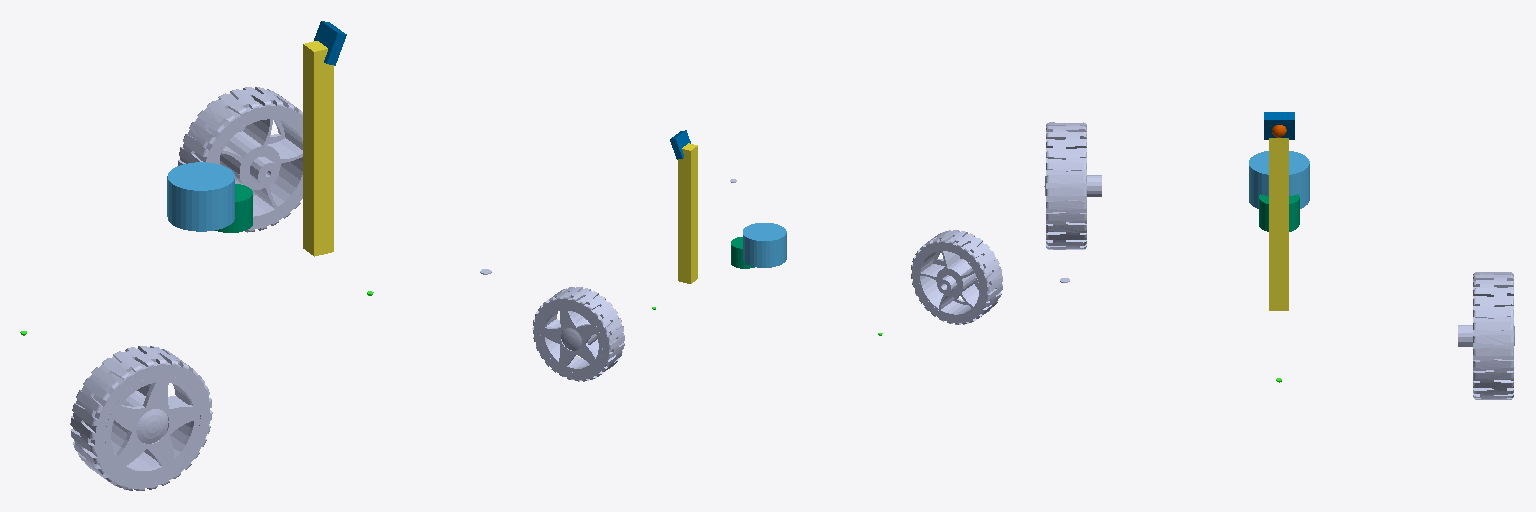
URDF robot description (neor_mini):
<?xml version="1.0" encoding="utf-8"?>
<!-- This URDF was automatically created by SolidWorks to URDF Exporter! Originally created by [author] ([email redacted]) 
     Commit Version: 1.5.1-0-g916b5db  Build Version: 1.5.7152.31018
     For more information, please see http://wiki.ros.org/sw_urdf_exporter -->
<robot name="neor_mini">

  <!-- Add Gazebo plugins -->
    <!-- Load ros_control plugin using the steer_bot_hardware_gazebo
    implementation of the hardware_interface::RobotHW -->

  <gazebo>
    <plugin name="gazebo_ros_control" filename="libgazebo_ros_control.so">
      <robotSimType>steer_bot_hardware_gazebo/SteerBotHardwareGazebo</robotSimType>
      <legacyModeNS>false</legacyModeNS>
    </plugin>
  </gazebo>

    <link name="base_link">
    <!-- avoid root link inertia warnings, annotation -->
    <inertial>
      <origin
        xyz="0.030649671440691 -1.79069899872708E-05 0.0558717976709459"
        rpy="0 0 0" />
      <mass
        value="1.72617713171385" />
      <inertia
        ixx="0.0107311274569357"
        ixy="-3.24164649120244E-08"
        ixz="0.00169188715816868"
        iyy="0.0198871551919603"
        iyz="2.40252669081509E-07"
        izz="0.0269841937242323" />
    </inertial>

    <visual>
      <origin xyz="0 0 0" rpy="0 0 0" />
      <geometry>
        <mesh filename="package://neor_mini/meshes/base_link.STL" />
      </geometry>
      <material name="">
      <color rgba="0.250980392156863 0.250980392156863 0.250980392156863 1" /> 
      </material> 
    </visual>
    <collision>
      <origin
        xyz="0 0 0"
        rpy="0 0 0" />
      <geometry>
        <mesh
          filename="package://neor_mini/meshes/base_link.STL" />
      </geometry>
    </collision>
  </link>
  <link
    name="rear_wheel_link">
    <inertial>
      <origin
        xyz="-8.88178419700125E-16 -2.05391259555654E-14 -0.00112500000001892"
        rpy="0 0 0" />
      <mass
        value="5.65486677646169E-05" />
      <inertia
        ixx="1.32005796313028E-10"
        ixy="-1.938704560671E-27"
        ixz="2.13770572261755E-26"
        iyy="1.32005796313028E-10"
        iyz="-7.60216295195271E-25"
        izz="2.03575203952622E-10" />
    </inertial>
    <visual>
      <origin
        xyz="0 0 0"
        rpy="0 0 0" />
      <geometry>
        <mesh
          filename="package://neor_mini/meshes/rear_wheel_link.STL" />
      </geometry>
      <material
        name="">
        <color
          rgba="0.274509803921569 1 0.247058823529412 1" />
      </material>
    </visual>
    <collision>
      <origin
        xyz="0 0 0"
        rpy="0 0 0" />
      <geometry>
        <mesh
          filename="package://neor_mini/meshes/rear_wheel_link.STL" />
      </geometry>
    </collision>
  </link>
  <joint
    name="rear_wheel_joint"
    type="continuous">
    <origin
      xyz="-0.181499999999597 0 0.0399999999987674"
      rpy="0 0 0" />
    <parent
      link="base_link" />
    <child
      link="rear_wheel_link" />
    <axis
      xyz="0 1 0" />
  </joint>
  <link
    name="left_rear_link">
    <inertial>
      <origin
        xyz="7.85229659072684E-11 -0.0196762547002777 4.85059770127805E-11"
        rpy="0 0 0" />
      <mass
        value="0.29556182905038" />
      <inertia
        ixx="0.000374087423652291"
        ixy="2.19336154342606E-13"
        ixz="-5.50404301757561E-12"
        iyy="0.000661017199375587"
        iyz="-5.10049385981967E-14"
        izz="0.000374087441459994" />
    </inertial>
    <visual>
      <origin
        xyz="0 0 0"
        rpy="0 0 0" />
      <geometry>
        <mesh
          filename="package://neor_mini/meshes/left_rear_link.STL" />
      </geometry>
      <material
        name="">
        <color
          rgba="0.792156862745098 0.819607843137255 0.933333333333333 1" />
      </material>
    </visual>
    <collision>
      <origin
        xyz="0 0 0"
        rpy="0 0 0" />
      <geometry>
        <mesh
          filename="package://neor_mini/meshes/left_rear_link.STL" />
      </geometry>
    </collision>
  </link>
  <joint
    name="left_rear_joint"
    type="continuous">
    <origin
      xyz="-0.181499999999595 0.228542434993694 0.0399999999991634"
      rpy="0 0 0" />
    <parent
      link="base_link" />
    <child
      link="left_rear_link" />
    <axis
      xyz="0 1 0" />
    <limit
      lower="-3.14"
      upper="3.14"
      effort="0"
      velocity="0" />
  </joint>
  <link
    name="right_rear_link">
    <inertial>
      <origin
        xyz="7.8521189550429E-11 0.0196762545376323 3.35983463273237E-11"
        rpy="0 0 0" />
      <mass
        value="0.295561829050389" />
      <inertia
        ixx="0.000374087423652306"
        ixy="-2.1933774523493E-13"
        ixz="5.50404145624456E-12"
        iyy="0.000661017199375601"
        iyz="-5.10073974604221E-14"
        izz="0.000374087441459995" />
    </inertial>
    <visual>
      <origin
        xyz="0 0 0"
        rpy="0 0 0" />
      <geometry>
        <mesh
          filename="package://neor_mini/meshes/right_rear_link.STL" />
      </geometry>
      <material
        name="">
        <color
          rgba="0.792156862745098 0.819607843137255 0.933333333333333 1" />
      </material>
    </visual>
    <collision>
      <origin
        xyz="0 0 0"
        rpy="0 0 0" />
      <geometry>
        <mesh
          filename="package://neor_mini/meshes/right_rear_link.STL" />
      </geometry>
    </collision>
  </link>
  <joint
    name="right_rear_joint"
    type="continuous">
    <origin
      xyz="-0.181499999999595 -0.228542434994426 0.0399999999991584"
      rpy="0 0 0" />
    <parent
      link="base_link" />
    <child
      link="right_rear_link" />
    <axis
      xyz="0 1 0" />
    <limit
      lower="-3.14"
      upper="3.14"
      effort="0"
      velocity="0" />
  </joint>
  <link
    name="front_steer_link">
    <inertial>
      <origin
        xyz="-2.1316282072803E-14 3.67778030252452E-11 -0.00112486602459905"
        rpy="0 0 0" />
      <mass
        value="5.65486677646163E-05" />
      <inertia
        ixx="1.32005796313026E-10"
        ixy="1.16322273640277E-26"
        ixz="1.20446157864484E-28"
        iyy="1.32005796313026E-10"
        iyz="-8.66481261175625E-27"
        izz="2.03575203952619E-10" />
    </inertial>
    <visual>
      <origin
        xyz="0 0 0"
        rpy="0 0 0" />
      <geometry>
        <mesh
          filename="package://neor_mini/meshes/front_steer_link.STL" />
      </geometry>
      <material
        name="">
        <color
          rgba="0.274509803921569 1 0.247058823529412 1" />
      </material>
    </visual>
    <collision>
      <origin
        xyz="0 0 0"
        rpy="0 0 0" />
      <geometry>
        <mesh
          filename="package://neor_mini/meshes/front_steer_link.STL" />
      </geometry>
    </collision>
  </link>
  <joint
    name="front_steer_joint"
    type="revolute">
    <origin
      xyz="0.172883370897628 0 -0.00376561854722868"
      rpy="0 0 0" />
    <parent
      link="base_link" />
    <child
      link="front_steer_link" />
    <axis
      xyz="0 0 1" />
    <limit
      lower="-0.72"
      upper="0.72"
      effort="0"
      velocity="0" />
  </joint>

<!-- In order to fit ackermann simulation plugins's request,amend the front steer link and it's joint -->
 <link name="front_steer_right_link">
 <!--  remember add inertial  label,if not,and it can't visual on gazebo-->
 <inertial>  
      <origin xyz="9.44636555644252E-08 -0.000295273745285485 -8.13046296954667E-11" rpy="0 0 0" />
      <mass value="0.296315811300368" /> 
      <inertia
        ixx="0.000374692013709393"
        ixy="-9.17172260383823E-08"
        ixz="-2.43187512356516E-12"
        iyy="0.000661029987747155"
        iyz="1.9736939507106E-13"
        izz="0.000374691963930348" />
    </inertial>
   <visual>
     <geometry>
       <cylinder length="0.001" radius="0.005"/>
     </geometry>
     <origin rpy="0 0 0"  xyz="0 0 0" />
     <material name=""> 
          <color rgba="0.792156862745098 0.819607843137255 0.933333333333333 1" />
     </material>
   </visual>
   <collision>
      <origin
        xyz="0 0 0"
        rpy="0 0 0" />
      <geometry>
       <cylinder length="0.001" radius="0.005"/>
      </geometry>
    </collision>
 </link>
 <joint name="front_steer_right_joint" type="revolute">
    <origin rpy="0 0 0"  xyz="0.17 -0.21 0.102" />
    <parent link="base_link" />
    <child link="front_steer_right_link" />
    <axis xyz="0 0 1" />     <!-- charge steer direction default is 0 0 1-->
    <limit lower="-0.69" upper="0.69" effort="0" velocity="0" />
 </joint>
<!-- ************************************************************************************* -->

  <link
    name="front_right_wheel_link">
    <inertial>
      <origin
        xyz="9.44636555644252E-08 -0.000295273745285485 -8.13046296954667E-11"
        rpy="0 0 0" />
      <mass
        value="0.296315811300368" />
      <inertia
        ixx="0.000374692013709393"
        ixy="-9.17172260383823E-08"
        ixz="-2.43187512356516E-12"
        iyy="0.000661029987747155"
        iyz="1.9736939507106E-13"
        izz="0.000374691963930348" />
    </inertial>
    <visual>
      <origin
        xyz="0 0 0"
        rpy="0 0 0" />
      <geometry>
        <mesh
          filename="package://neor_mini/meshes/front_right_wheel_link.STL" />
      </geometry>
      <material
        name="">
        <color
          rgba="0.792156862745098 0.819607843137255 0.933333333333333 1" />
      </material>
    </visual>
    <collision>
      <origin
        xyz="0 0 0"
        rpy="0 0 0" />
      <geometry>
        <mesh
          filename="package://neor_mini/meshes/front_right_wheel_link.STL" />
      </geometry>
    </collision>
  </link>
  <joint name="front_right_wheel_joint" type="continuous">
    <origin xyz="0 0 -0.06" rpy="0 0 0" />   <!-- amend the position between steer_right_link and front right wheel-->
    <parent link="front_steer_right_link" />
    <child  link="front_right_wheel_link" />
    <axis xyz="0 1 0" />
  </joint>

<!-- In order to fit ackermann simulation plugins's request,amend the front steer link and it's joint -->
 <link name="front_steer_left_link">
 <!--  remember add inertial  label,if not,and it can't visual on gazebo-->
    <inertial> 
      <origin xyz="9.44636555644252E-08 -0.000295273745285485 -8.13046296954667E-11" rpy="0 0 0" />
      <mass value="0.296315811300368" /> 
      <inertia
        ixx="0.000374692013709393"
        ixy="-9.17172260383823E-08"
        ixz="-2.43187512356516E-12"
        iyy="0.000661029987747155"
        iyz="1.9736939507106E-13"
        izz="0.000374691963930348" />
    </inertial>
   <visual>
     <geometry>
       <cylinder length="0.001" radius="0.005"/>
     </geometry>
     <origin rpy="0 0 0"  xyz="0 0 0" />
   </visual>
    <collision>
      <origin xyz="0 0 0" rpy="0 0 0" />
      <geometry>
       <cylinder length="0.001" radius="0.005"/>
      </geometry>
    </collision>
 </link>
 <joint name="front_steer_left_joint" type="revolute">
    <origin rpy="0 0 0"  xyz="0.17 0.21 0.102" />
    <parent link="base_link" />
    <child link="front_steer_left_link" />
    <axis xyz="0 0 1" />  <!-- charge steer direction default is 0 0 1-->
    <limit lower="-0.69" upper="0.69" effort="0" velocity="0" />
 </joint>
<!-- ************************************************************************************* -->

  <link
    name="front_left_wheel_link">
    <inertial>
      <origin
        xyz="-3.99413835339146E-11 0.000295273997845347 1.08602016268833E-10"
        rpy="0 0 0" />
      <mass
        value="0.296315811293944" />
      <inertia
        ixx="0.00037469197851121"
        ixy="-1.84493877596723E-13"
        ixz="-9.50756757097929E-12"
        iyy="0.00066103001709398"
        iyz="-1.17866882205563E-13"
        izz="0.000374691969713977" />
    </inertial>
    <visual>
      <origin
        xyz="0 0 0"
        rpy="0 0 0" />
      <geometry>
        <mesh
          filename="package://neor_mini/meshes/front_left_wheel_link.STL" />
      </geometry>
      <material
        name="">
        <color
          rgba="0.792156862745098 0.819607843137255 0.933333333333333 1" />
      </material>
    </visual>
    <collision>
      <origin
        xyz="0 0 0"
        rpy="0 0 0" />
      <geometry>
        <mesh
          filename="package://neor_mini/meshes/front_left_wheel_link.STL" />
      </geometry>
    </collision>
  </link>
  <joint name="front_left_wheel_joint" type="continuous">
    <origin xyz="0 0 -0.06" rpy="0 0 0" />      <!-- amend the position between steer_left_link and front left wheel-->
    <parent link="front_steer_left_link" />
    <child link="front_left_wheel_link" />
    <axis xyz="0 1 0" /> 
  </joint>


  <!--  add laser link -->
  <link name="laser_link">
    <visual>
      <geometry>
        <cylinder length="0.04" radius="0.03"/>
      </geometry>
    </visual>
  </link>
  <joint name ="2Dlaser_joints" type="fixed">
    <origin xyz="0.0 0.0 0.13" rpy="0.0 0.0 0.0"/>
    <parent link="base_link"/>
    <child link="laser_link"/>
  </joint>
    <!--  add laser link -->
  <link name="laser_link2">
    <visual>
      <geometry>
        <cylinder length="0.03" radius="0.02"/>
      </geometry>
    </visual>
  </link>
  <joint name ="2Dlaser_joints2" type="fixed">
    <origin xyz="0.03 0.0 0.112" rpy="0.0 0.0 0.0"/>
    <parent link="base_link"/>
    <child link="laser_link2"/>
  </joint>
  <!--*********************************************************************-->
  
  <!-- add camera links -->
  <link name="camerabase_link">
    <visual>
      <geometry>
        <box size="0.02 0.02 0.2"/>
      </geometry>
    </visual>
  </link>
  <joint name ="camerabase_joints" type="fixed">
    <origin xyz="0.12 0.0 0.15" rpy="0.0 0.0 0.0"/>   
    <parent link="base_link"/>
    <child link="camerabase_link"/>
  </joint>

  <link name="camera_link">
    <visual>
      <geometry>
        <box size="0.01 0.03 0.03"/>
      </geometry>
    </visual>
  </link>
  <joint name ="camera_joints" type="fixed">
    <origin xyz="0.01 0 0.1" rpy="0.0 0.4 0.0"/>   
    <parent link="camerabase_link"/>
    <child link="camera_link"/>
  </joint>
  
  <link name="camerahead_link">
    <visual>
      <geometry>
        <sphere radius="0.0075" />
      </geometry>
    </visual>
  </link>
  <joint name ="camerahead_joints" type="fixed">
    <origin xyz="0.005 0 0" rpy="0.0 0.0 0.0"/>   
    <parent link="camera_link"/>
    <child link="camerahead_link"/>
  </joint>
  <!--*********************************************************************-->

  <!--add color for links -->
  <gazebo reference="base_link">
    <material>Gazebo/White</material>
  </gazebo>

  <gazebo reference="front_steer_left_link">
    <material>Gazebo/Road</material>
  </gazebo>

  <gazebo reference="front_steer_right_link">
    <material>Gazebo/Road</material>
  </gazebo>

  <gazebo reference="front_left_wheel_link">
    <material>Gazebo/FlatBlack</material>
  </gazebo>

  <gazebo reference="front_right_wheel_link">
    <material>Gazebo/FlatBlack</material>
  </gazebo>
  
  <gazebo reference="left_rear_link">
    <material>Gazebo/FlatBlack</material>
  </gazebo>

  <gazebo reference="right_rear_link">
    <material>Gazebo/FlatBlack</material>
  </gazebo>

  <gazebo reference="laser_link">
    <material>Gazebo/Black</material>
  </gazebo>
  <gazebo reference="laser_link2">
    <material>Gazebo/GreyTransparent</material>
  </gazebo>

   <gazebo reference="camera_link">
    <material>Gazebo/White</material>
  </gazebo>
  <gazebo reference="camerabase_link">
    <material>Gazebo/Black</material>
  </gazebo>
  <gazebo reference="camerahead_link">
    <material>Gazebo/Black</material>
  </gazebo>

  <!--*********************************************************************-->

  <!-- add camera simulation plugines -->
  <gazebo reference="camerahead_link">
    <sensor type="camera" name="camera1">
      <update_rate>40.0</update_rate>
      <camera name="head">
        <horizontal_fov>1.3962634</horizontal_fov>
        <image>
          <width>800</width>
          <height>800</height>
          <format>R8G8B8</format>
        </image>
        <clip>
          <near>0.02</near>
          <far>300</far>
        </clip>
        <noise>
          <type>gaussian</type>
          <mean>0.0</mean>
          <stddev>0.007</stddev>
        </noise>
      </camera>
      <plugin name="camera_controller" filename="libgazebo_ros_camera.so">
        <alwaysOn>true</alwaysOn>
        <updateRate>30.0</updateRate>
        <cameraName>/camera</cameraName>
        <imageTopicName>image_raw</imageTopicName>
        <cameraInfoTopicName>camera_info</cameraInfoTopicName>
        <frameName>base_link</frameName>
        <hackBaseline>0.07</hackBaseline>
        <distortionK1>0.0</distortionK1>
        <distortionK2>0.0</distortionK2>
        <distortionK3>0.0</distortionK3>
        <distortionT1>0.0</distortionT1>
        <distortionT2>0.0</distortionT2>
      </plugin>
    </sensor>
  </gazebo>
  <!--*********************************************************************-->

  <!-- add laser simulation plugines adaptored for rplidar A1M8 -->
  <gazebo reference="laser_link">
    <sensor type="ray" name="Top_laser_sensor">
      <visualize>false</visualize>
      <update_rate>40</update_rate>
      <ray>
        <scan>
          <horizontal>
            <samples>720</samples>
            <resolution>1</resolution>
            <min_angle>-3.1415926</min_angle>
            <max_angle>3.1415926</max_angle>
          </horizontal>
        </scan>
        <range>
          <min>0.01</min>
          <max>12.0</max>
          <resolution>0.05</resolution>
         </range>
        <noise>
          <type>gaussian</type>
          <mean>0.0</mean>
          <stddev>0.01</stddev>
        </noise>
      </ray>
      <plugin name="gazebo_ros_head_laser_controller" filename="libgazebo_ros_laser.so">
        <topicName>/scan</topicName>
        <frameName>laser_link</frameName>
      </plugin>
    </sensor>
  </gazebo>
  <!--*********************************************************************-->

</robot>

--- What the picture shows (computed from the rendered views, not written in the file) ---
The picture shows the robot from 3 angles, left to right: view 1: azimuth 30°, elevation 25°; view 2: azimuth 150°, elevation 25°; view 3: azimuth 270°, elevation 25°; orthographic projection.
Model neor_mini with 14 links and 13 joints (3 revolute, 5 continuous, 5 fixed), rooted at base_link, posed all joints at 0.
Visible links, largest first — view 1: right_rear_link, front_left_wheel_link, camerabase_link, laser_link, laser_link2, camera_link; view 2: front_left_wheel_link, right_rear_link, camerabase_link, laser_link; view 3: front_left_wheel_link, right_rear_link, camerabase_link, laser_link, laser_link2, camera_link.
Link boxes in pixels (left/top/right/bottom): right_rear_link: left=70, top=346, right=212, bottom=490; front_left_wheel_link: left=178, top=87, right=302, bottom=232; camerabase_link: left=303, top=41, right=333, bottom=256; laser_link: left=167, top=162, right=234, bottom=231; laser_link2: left=215, top=184, right=252, bottom=232; camera_link: left=314, top=21, right=346, bottom=65; front_left_wheel_link: left=532, top=287, right=624, bottom=381; right_rear_link: left=911, top=230, right=1002, bottom=324; camerabase_link: left=678, top=143, right=697, bottom=283; laser_link: left=743, top=223, right=786, bottom=267; front_left_wheel_link: left=1458, top=272, right=1514, bottom=399; right_rear_link: left=1044, top=122, right=1101, bottom=249; camerabase_link: left=1269, top=138, right=1288, bottom=310; laser_link: left=1249, top=151, right=1309, bottom=208; laser_link2: left=1259, top=194, right=1299, bottom=231; camera_link: left=1264, top=112, right=1294, bottom=139.
Size in the robot's own frame: 0.4765 by 0.4616 by 0.2882 metres.
Meshes: 7 distinct files referenced, 4 mesh visuals loaded (4 binary STL); not drawn: 3 (reference not matched to a file when rendering).
